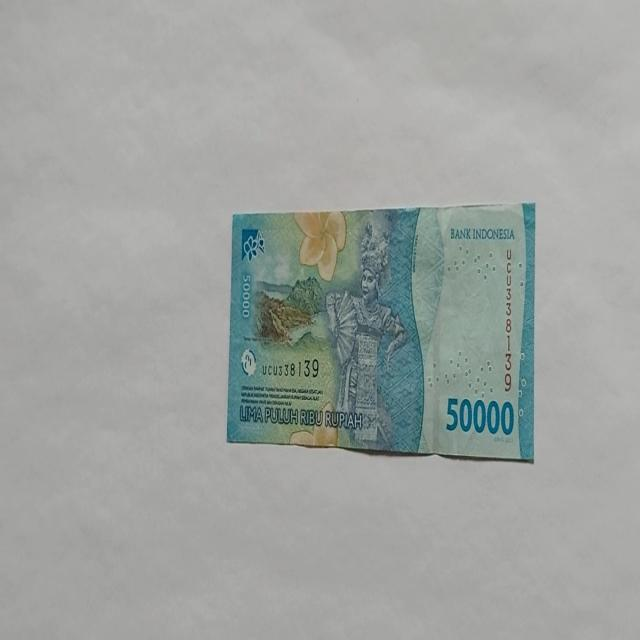lima puluh ribu rupiah: (225, 202, 536, 462)
